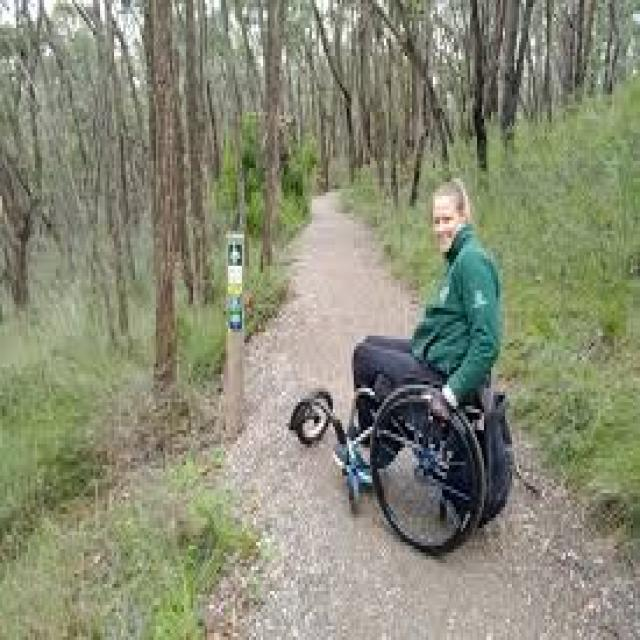wheelchairs: (365, 370, 524, 560)
